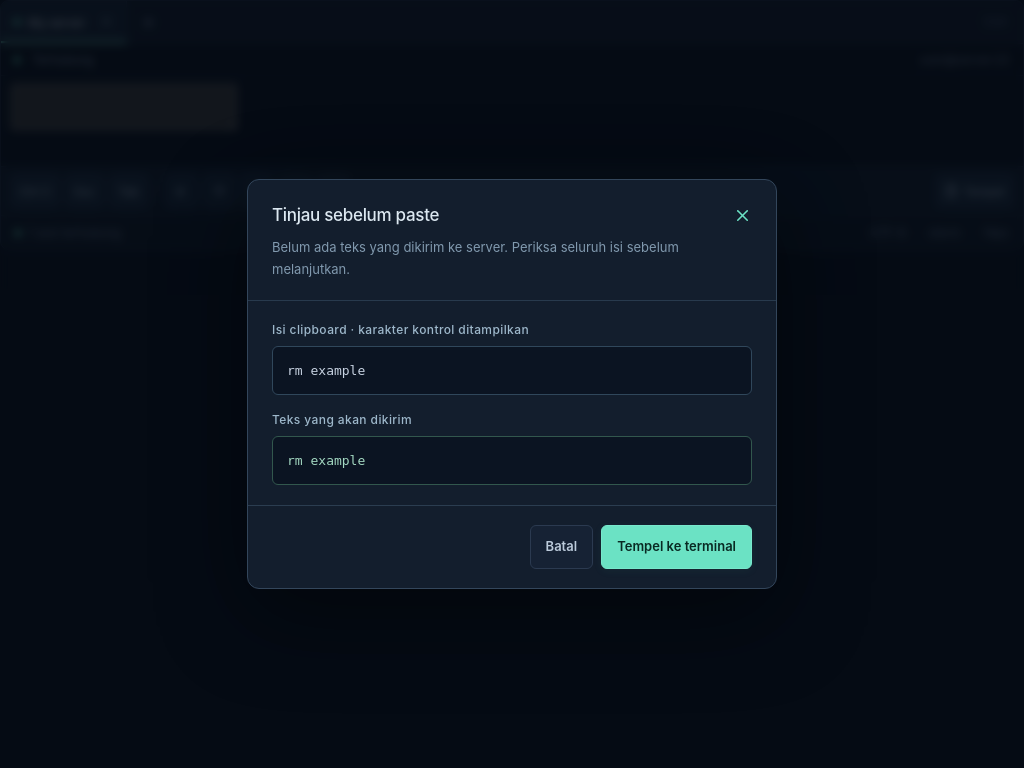
terminal paste safety and lifetime › cancels paste without sending any bytes
Click the button "Batal".
click(561, 547)  # box [530,526,593,569]
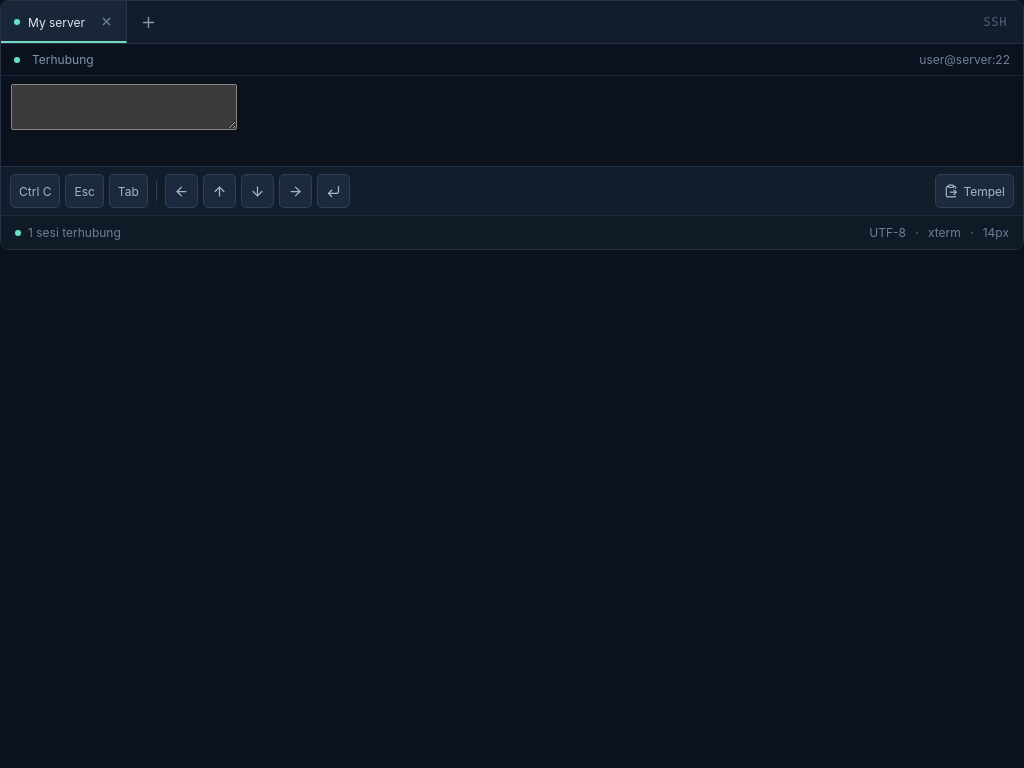
expect the dialog is gone: met
